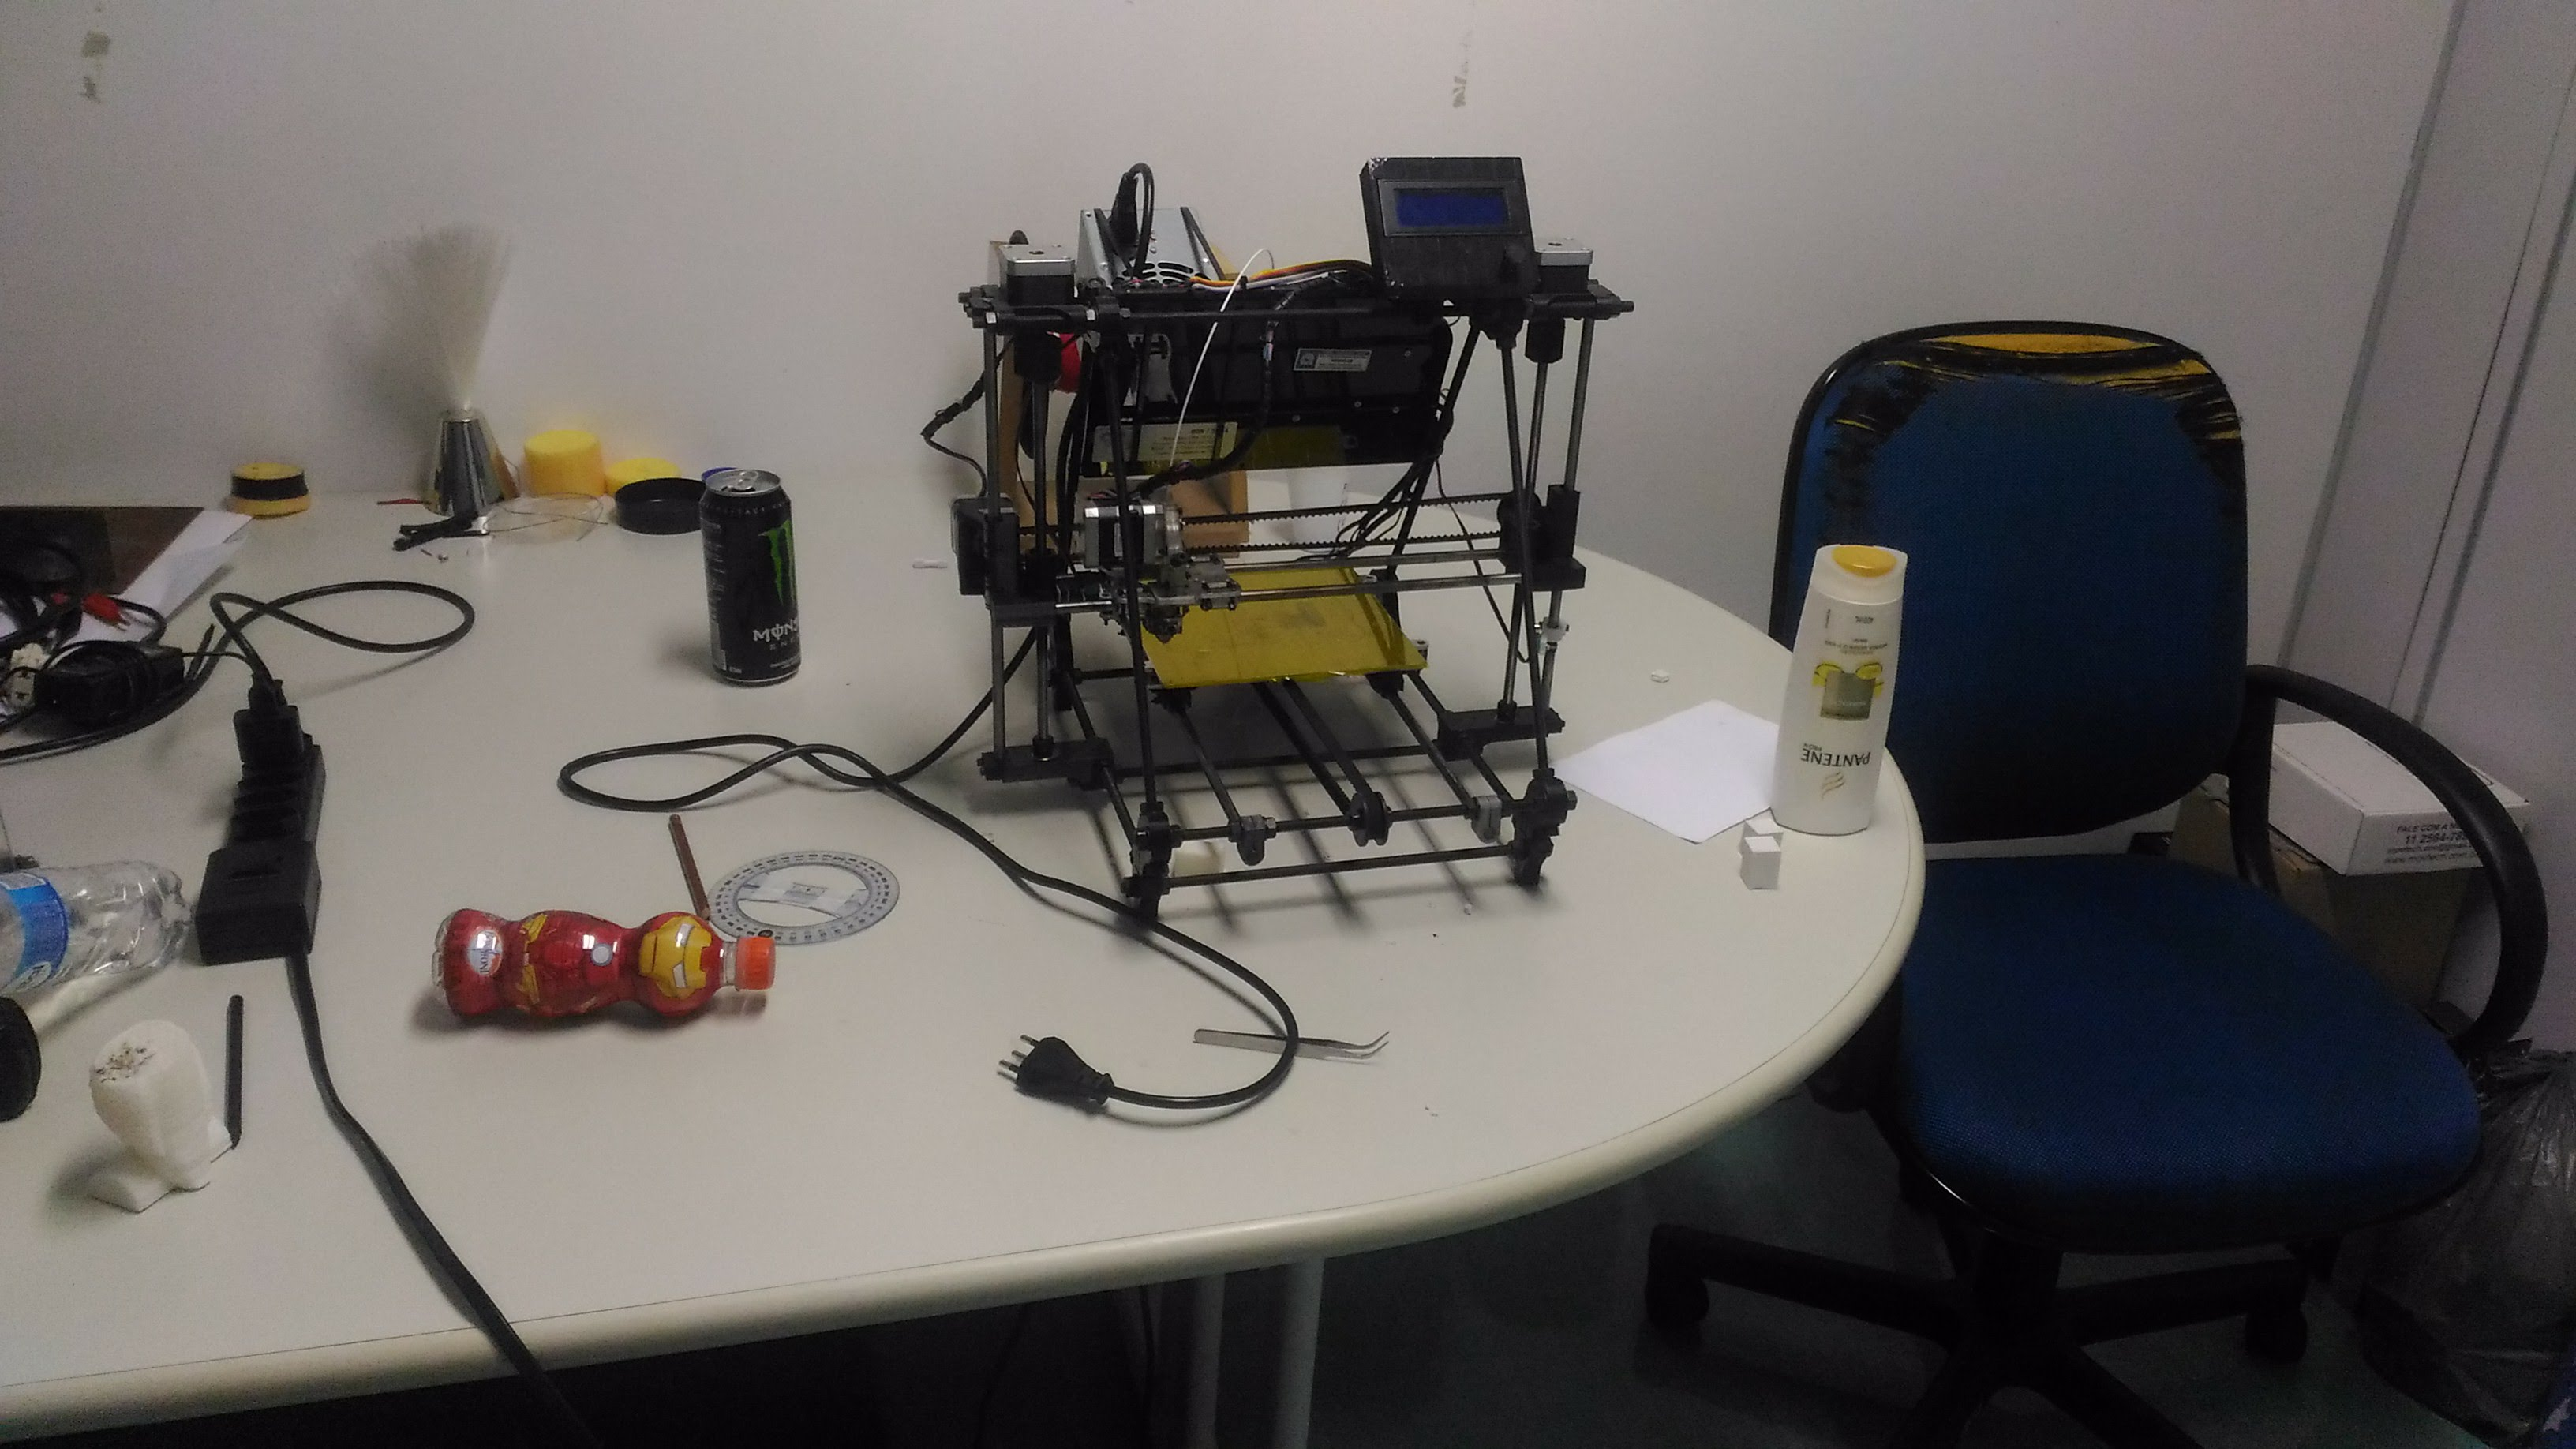iron_man: (428, 895, 777, 1048)
monster: (694, 459, 818, 699)
shampoo: (1769, 541, 1906, 849)
